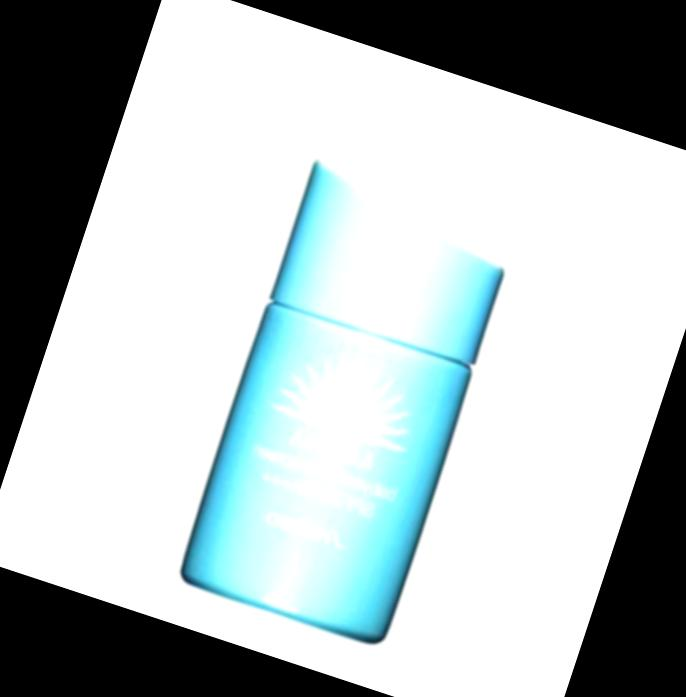cosmetic: (170, 153, 523, 649)
